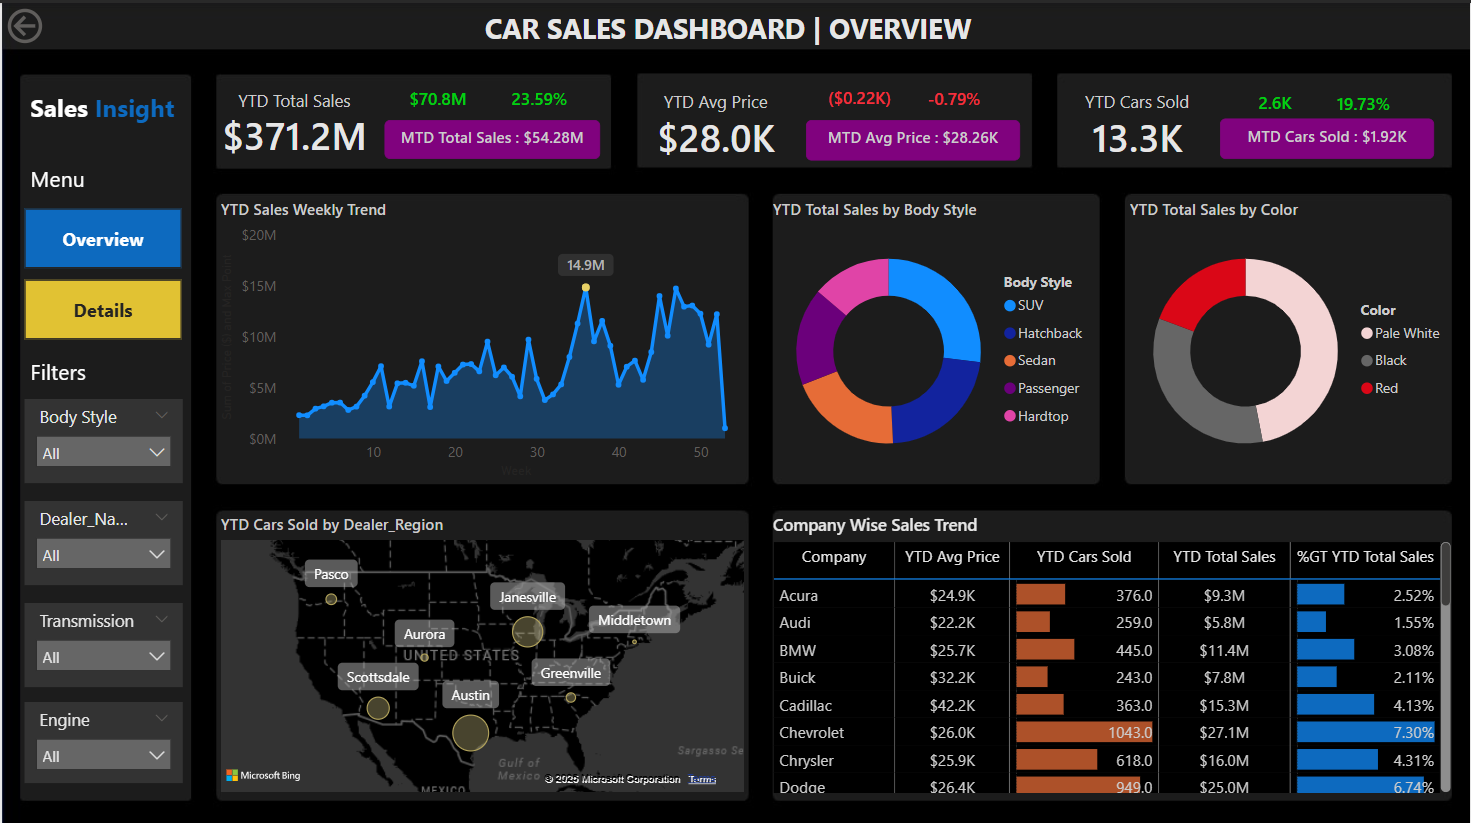

What the dashboard file says about the page in this screenshot:
{"tool":"powerbi","page":{"name":"Overview","canvas":[1280,720],"ordinal":0},"visuals":[{"type":"card","title":"YTD Total Sales","fields":{"Values":["car_data.YTD Total Sales"]},"box":[186.5,74,135.7,61.7],"z":0},{"type":"card","fields":{"Values":["car_data.Sales Difference"]},"box":[333.1,71.2,92.4,25.7],"z":1000},{"type":"card","fields":{"Values":["car_data.YOY Sales Growth"]},"box":[416.4,71.2,104.5,25.7],"z":2000},{"type":"card","fields":{"Values":["car_data.MTD KPI"]},"box":[333,101.7,188.1,33.9],"z":3000},{"type":"card","title":"YTD Avg Price","fields":{"Values":["car_data.YTD Avg Price"]},"box":[559.6,75.5,124.9,61.7],"z":4000},{"type":"card","fields":{"Values":["car_data.Avg Price Diff"]},"box":[701.4,70.9,92.5,26.2],"z":5000},{"type":"card","fields":{"Values":["car_data.YOY Avg Price Growth"]},"box":[782.8,71.2,92.4,25.7],"z":6000},{"type":"card","fields":{"Values":["car_data.MTD Avg Price KPI"]},"box":[701.4,101.7,186.5,35.5],"z":7000},{"type":"card","title":"YTD Cars Sold","fields":{"Values":["car_data.YTD Cars Sold"]},"box":[926.5,75.5,124.9,61.7],"z":8000},{"type":"card","fields":{"Values":["car_data.Cars Sold Diff"]},"box":[1063.7,74,92.5,26.2],"z":9000},{"type":"card","fields":{"Values":["car_data.YOY Car Sold Growth"]},"box":[1140.8,75.5,92.5,26.2],"z":10000},{"type":"card","fields":{"Values":["car_data.MTD Cars Sold KPI"]},"box":[1062.1,100.2,186.5,35.5],"z":11000},{"type":"areaChart","title":"YTD Sales Weekly Trend","fields":{"Category":["Calendar Table.Week"],"Y":["Sum(car_data.Price ($))","car_data.Max Point"]},"box":[186.2,169.6,466.4,248.3],"z":12000},{"type":"donutChart","fields":{"Y":["car_data.YTD Total Sales"],"Category":["car_data.Body Style"]},"box":[666.3,169.6,289.2,248.3],"z":13000},{"type":"donutChart","fields":{"Y":["car_data.YTD Total Sales"],"Category":["car_data.Color"]},"box":[978.2,169.6,289.2,248.3],"z":14000},{"type":"map","fields":{"Size":["car_data.YTD Cars Sold"],"Category":["car_data.Dealer_Region"]},"box":[186.2,445.2,466.4,248.3],"z":15000},{"type":"tableEx","title":"Company Wise Sales Trend","fields":{"Values":["car_data.Company","car_data.YTD Avg Price","car_data.YTD Cars Sold","car_data.YTD Total Sales1","car_data.YTD Total Sales"]},"box":[666.3,445.2,601.1,248.3],"z":16000},{"type":"actionButton","box":[0,0,100,40],"z":17000},{"type":"textbox","box":[415.8,0,444.6,47],"z":18000},{"type":"slicer","fields":{"Values":["car_data.Body Style"]},"box":[19.1,344.8,137.9,73.4],"z":19000},{"type":"slicer","fields":{"Values":["car_data.Dealer_Name"]},"box":[19.1,434.4,137.9,73.4],"z":20000},{"type":"slicer","fields":{"Values":["car_data.Transmission"]},"box":[19.1,522.4,137.9,73.4],"z":21000},{"type":"slicer","fields":{"Values":["car_data.Engine"]},"box":[19.1,609,137.9,70.4],"z":22000},{"type":"textbox","box":[19.1,303.8,80.7,41.1],"z":23000},{"type":"pageNavigator","box":[19.1,179,137.9,114.5],"z":24000},{"type":"textbox","box":[19.7,134.8,80.3,34.8],"z":25000},{"type":"textbox","box":[19.7,71.2,149.9,46.9],"z":26000}]}

Visuals, with their boxes in screenshot pixels (x1, y1, x2, y2), scaled from the page's 1280x720 canvas onto the 1471x823 screenshot:
"YTD Total Sales" card: <region>214, 85, 370, 155</region>
card - car_data.Sales Difference: <region>383, 81, 489, 111</region>
card - car_data.YOY Sales Growth: <region>479, 81, 599, 111</region>
card - car_data.MTD KPI: <region>383, 116, 599, 155</region>
"YTD Avg Price" card: <region>643, 86, 787, 157</region>
card - car_data.Avg Price Diff: <region>806, 81, 912, 111</region>
card - car_data.YOY Avg Price Growth: <region>900, 81, 1006, 111</region>
card - car_data.MTD Avg Price KPI: <region>806, 116, 1020, 157</region>
"YTD Cars Sold" card: <region>1065, 86, 1208, 157</region>
card - car_data.Cars Sold Diff: <region>1222, 85, 1329, 115</region>
card - car_data.YOY Car Sold Growth: <region>1311, 86, 1417, 116</region>
card - car_data.MTD Cars Sold KPI: <region>1221, 115, 1435, 155</region>
"YTD Sales Weekly Trend" areaChart: <region>214, 194, 750, 478</region>
donutChart - car_data.YTD Total Sales x car_data.Body Style: <region>766, 194, 1098, 478</region>
donutChart - car_data.YTD Total Sales x car_data.Color: <region>1124, 194, 1457, 478</region>
map - car_data.YTD Cars Sold x car_data.Dealer_Region: <region>214, 509, 750, 793</region>
"Company Wise Sales Trend" tableEx: <region>766, 509, 1457, 793</region>
actionButton: <region>0, 0, 115, 46</region>
textbox: <region>478, 0, 989, 54</region>
slicer - car_data.Body Style: <region>22, 394, 180, 478</region>
slicer - car_data.Dealer_Name: <region>22, 497, 180, 580</region>
slicer - car_data.Transmission: <region>22, 597, 180, 681</region>
slicer - car_data.Engine: <region>22, 696, 180, 777</region>
textbox: <region>22, 347, 115, 394</region>
pageNavigator: <region>22, 205, 180, 335</region>
textbox: <region>23, 154, 115, 194</region>
textbox: <region>23, 81, 195, 135</region>
